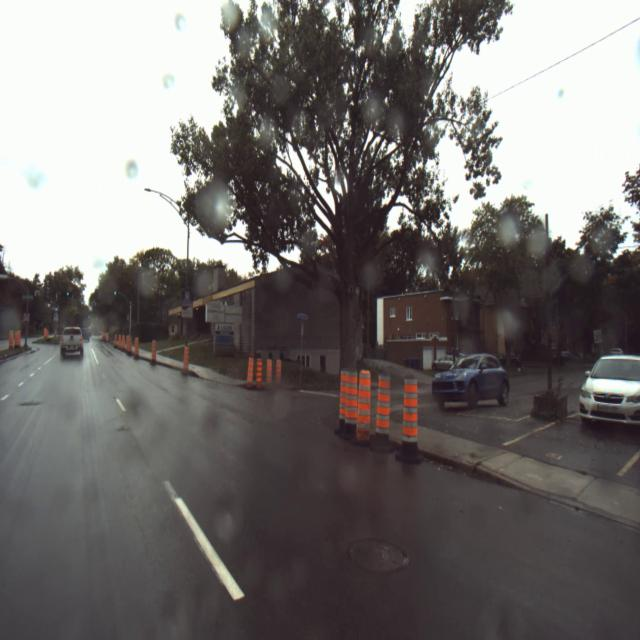car: (580, 357, 640, 431), (432, 355, 511, 411), (60, 326, 84, 364)
